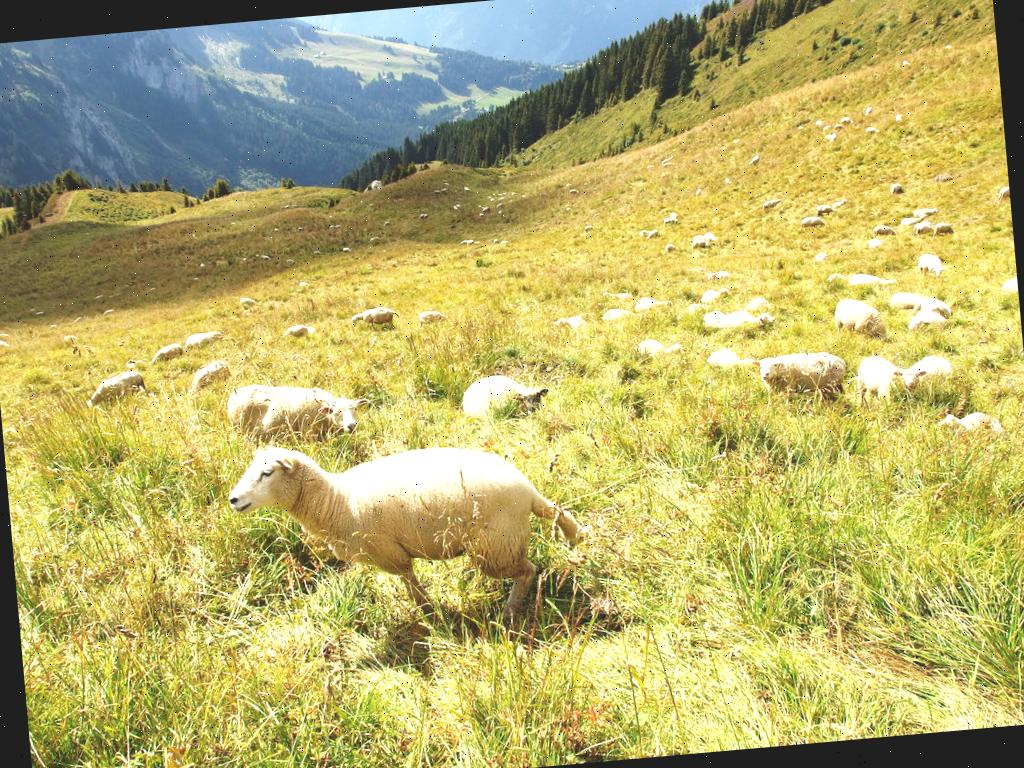Sheep: (222, 401, 596, 625), (224, 374, 372, 448), (747, 345, 853, 398), (851, 349, 929, 399), (80, 367, 148, 404), (185, 360, 233, 394), (182, 329, 224, 349), (154, 342, 186, 360)
